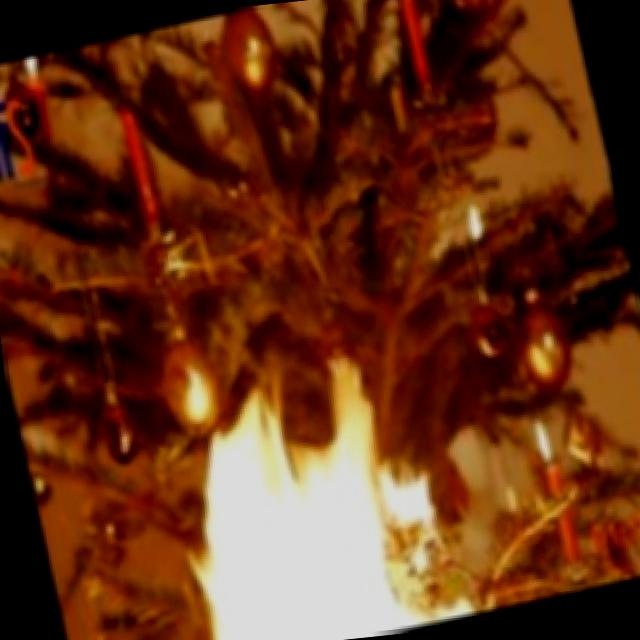fire: (124, 338, 487, 640)
